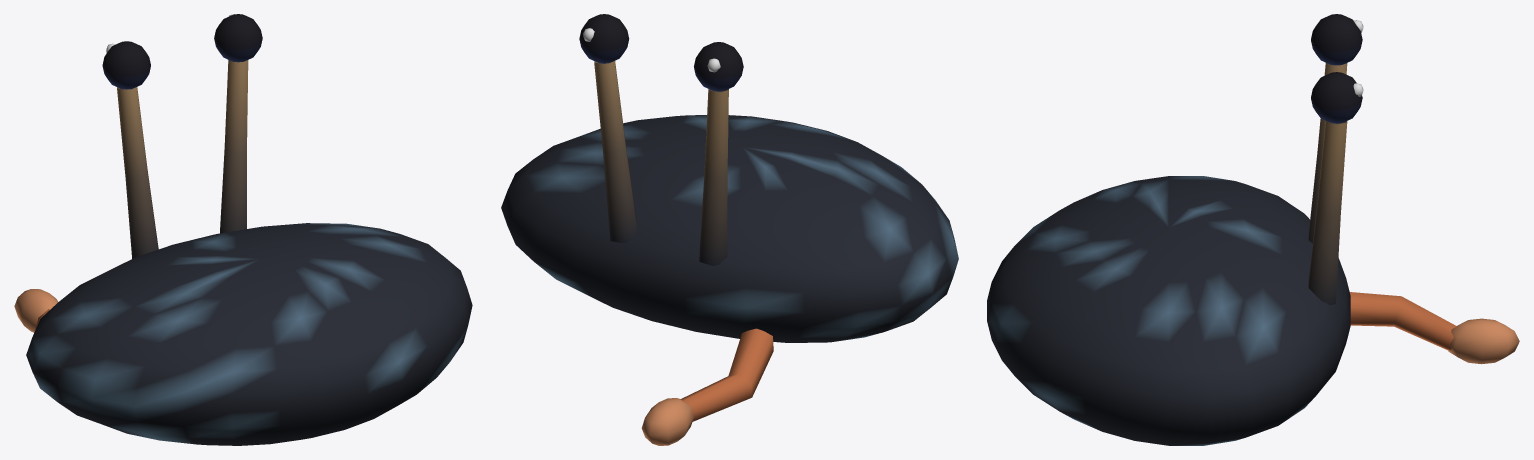
Rendered from Shiomaneki.fbx.
3 renders of one model, left to right at view 1: azimuth 30°, elevation 25°; view 2: azimuth 150°, elevation 25°; view 3: azimuth 270°, elevation 25°, orthographic. The views are drawn at different scales.
Parts seen in each view (by area): view 1: Shiomaneki; view 2: Shiomaneki; view 3: Shiomaneki.
Part boxes in pixels (left/top/right/bottom): Shiomaneki: left=14, top=14, right=472, bottom=445; Shiomaneki: left=501, top=14, right=958, bottom=445; Shiomaneki: left=987, top=14, right=1519, bottom=445.
Size of the model in its own units: 0.6666 by 0.514 by 0.6983.
